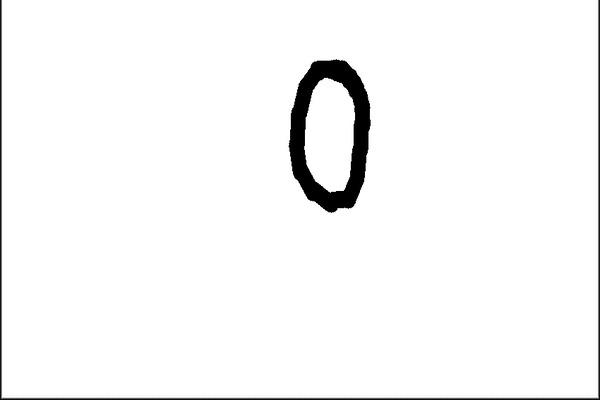O: (268, 48, 386, 226)
